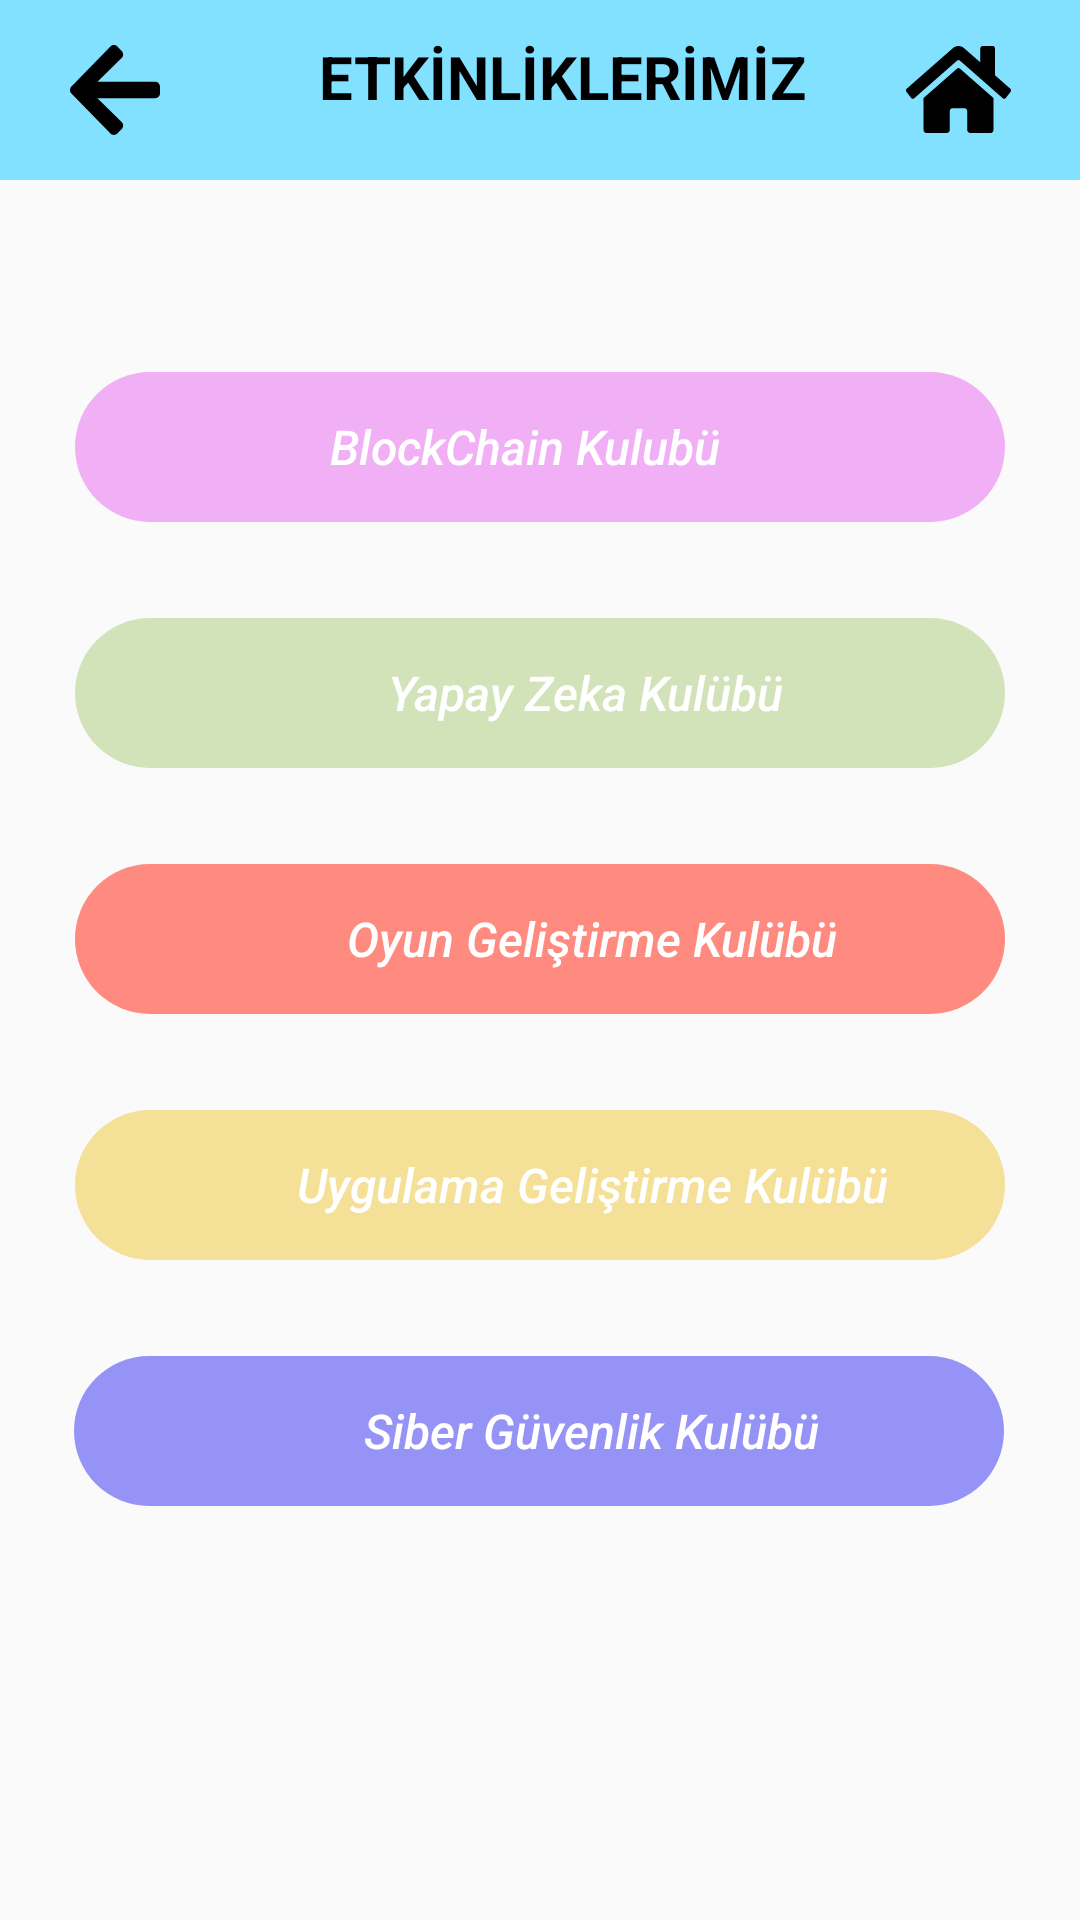

Icon bounding boxes for this 1080px x 1920px phone screenshot, format (x1, y1, x2, y2):
back: (70, 45, 160, 135)
home: (906, 46, 1011, 133)
